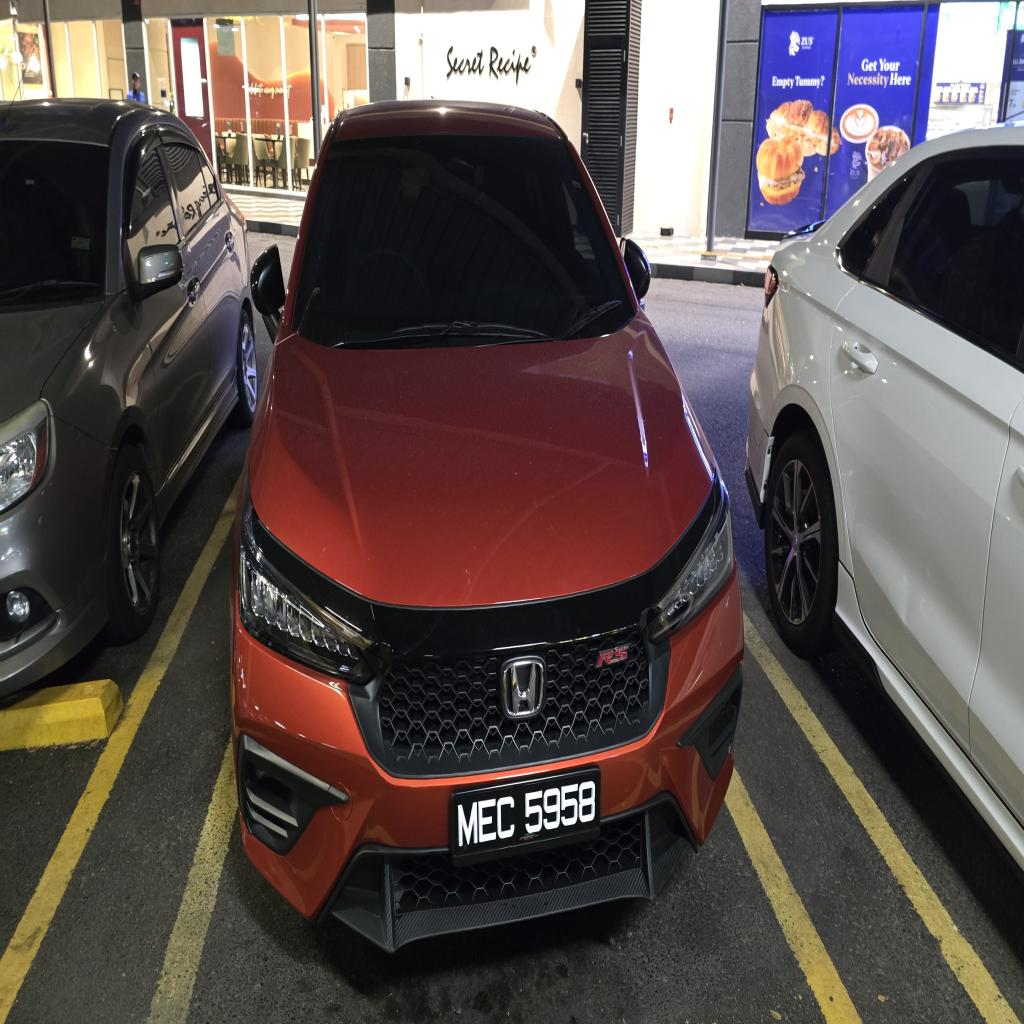car: (231, 99, 743, 948)
car plate: (450, 767, 600, 863)
